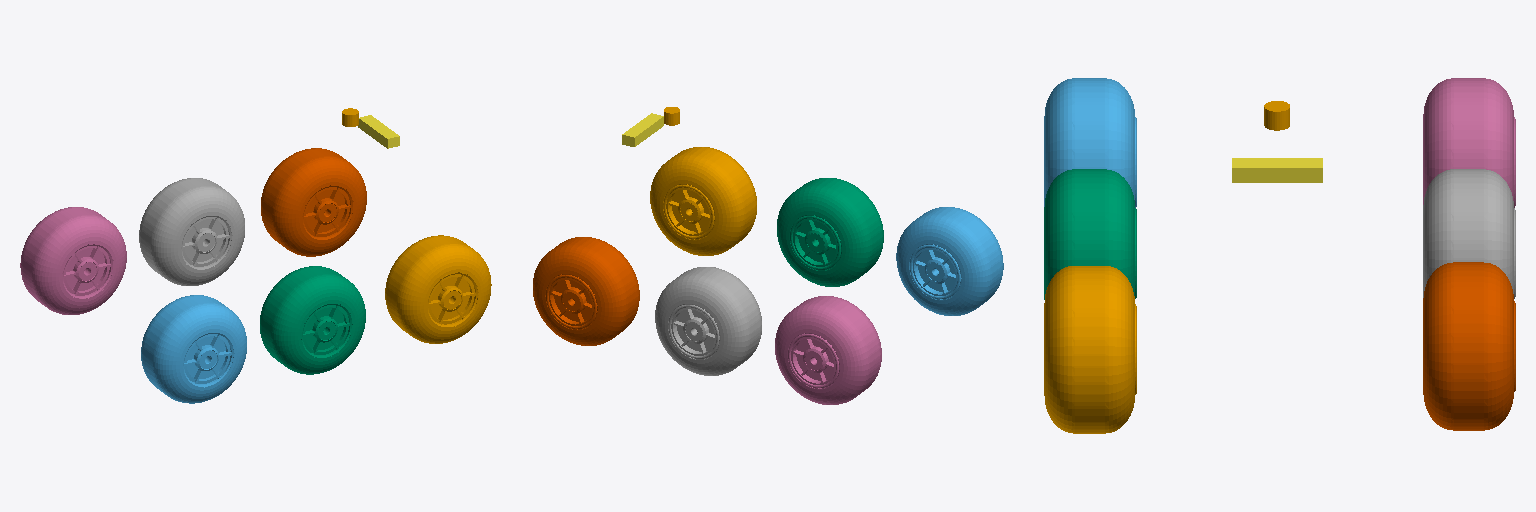
The robot description file, URDF, robot "rover":
<?xml version="1.0" ?>
<!-- =================================================================================== -->
<!-- |    This document was autogenerated by xacro from ilhuicamina.xacro              | -->
<!-- |    EDITING THIS FILE BY HAND IS NOT RECOMMENDED                                 | -->
<!-- =================================================================================== -->
<robot name="rover">
  <!-- Definimos las dimensiones del lidar-->
  <link name="lidar_link">
    <inertial>
      <mass value="0.0"/>
      <origin rpy="0 0 0" xyz="0 0 0"/>
      <inertia ixx="0.0" ixy="0.0" ixz="0.0" iyy="0.0" iyz="0.0" izz="0.0"/>
    </inertial>
    <collision>
      <geometry>
        <cylinder length="0.04" radius="0.025"/>
      </geometry>
      <origin rpy="0 0 0" xyz="0 0 -0.02"/>
    </collision>
    <visual>
      <geometry>
        <cylinder length="0.04" radius="0.025"/>
      </geometry>
      <origin rpy="0 0 0" xyz="0 0 -0.02"/>
    </visual>
  </link>
  <!-- Definimos el joint entre el lidar y la base -->
  <joint name="base_to_lidar" type="fixed">
    <parent link="base_link"/>
    <child link="lidar_link"/>
    <origin rpy="0 0 0" xyz="0.3 0 0.47"/>
  </joint>
  <!-- Dummy link to act as the root link -->
  <link name="dummy_link">
    <!-- No visual, collision, or inertial elements needed -->
  </link>
  <link name="base_link">
    <pose>0 0 0 0 0 0</pose>
    <inertial>
      <mass value="35.689"/>
      <origin rpy="0 0 0" xyz="0 0 0.085"/>
      <inertia ixx="1.5921292357633332" ixy="0" ixz="0" iyy="0.3900320247741667" iyz="0" izz="0.3900320247741667"/>
    </inertial>
    <visual>
      <geometry>
        <mesh filename="package://bring_up/meshes/Chasis.STL" scale="0.001 0.001 .001"/>
      </geometry>
      <origin rpy="1.570796327 0 1.570796327 " xyz="-.365 -.175 0.262"/>
    </visual>
    <collision>
      <geometry>
        <mesh filename="package://bring_up/meshes/Chasis.STL" scale="0.001 0.001 .001"/>
      </geometry>
      <origin rpy="1.570796327 0 1.570796327 " xyz="-.365 -.175 0.262"/>
    </collision>
  </link>
  <!-- Fixed joint connecting dummy_link to base_link -->
  <joint name="fixed_dummy_base" type="fixed">
    <parent link="dummy_link"/>
    <child link="base_link"/>
    <origin rpy="0 0 0" xyz="0 0 0"/>
  </joint>
  <!-- Definimos las dimensiones de la camara-->
  <link name="ZED_link">
    <inertial>
      <mass value="0.0"/>
      <origin rpy="0.0 0.0 0.0" xyz="0.0 0.0 0.0"/>
      <inertia ixx="0.0" ixy="0.0" ixz="0.0" iyy="0.0" iyz="0.0" izz="0.0"/>
    </inertial>
    <collision>
      <geometry>
        <box size="0.0431 0.17525 0.0325"/>
      </geometry>
      <origin rpy="0.0 0.0 0.0" xyz="0.0 0.0 0.0"/>
    </collision>
    <visual>
      <geometry>
        <box size="0.0431 0.17525 0.0325"/>
      </geometry>
      <origin rpy="0.0 0.0 0.0" xyz="0.0 0.0 0.0"/>
    </visual>
  </link>
  <joint name="base_to_ZED" type="fixed">
    <parent link="base_link"/>
    <child link="ZED_link"/>
    <origin rpy="0 0 0" xyz="0.4 0.0 0.38"/>
  </joint>
  <joint name="ZED_depth_joint" type="fixed">
    <origin rpy="-1.570796326795 0 -1.570796326795 " xyz="0 0 0"/>
    <parent link="ZED_link"/>
    <child link="ZED_depth_link"/>
  </joint>
  <link name="ZED_depth_link"/>
  <!--LLANTA IZQUIERDA FRONT-->
  <link name="flwheel_link">
    <inertial>
      <mass value="2.2"/>
      <origin rpy="0 1.570796327 1.570796327" xyz="0 0 0"/>
      <inertia ixx="0.02091375" ixy="0" ixz="0" iyy="0.02091375" iyz="0" izz="0.029947500000000005"/>
    </inertial>
    <visual name="link_flwheel_visual">
      <geometry>
        <mesh filename="package://bring_up/meshes/wheel_left_f.STL"/>
      </geometry>
      <origin rpy="0 0 0" xyz="0.034 -0.013 0"/>
    </visual>
    <collision name="link_flwheel_collision">
      <geometry>
        <mesh filename="package://bring_up/meshes/wheel_left_f.STL"/>
      </geometry>
      <origin rpy="0 0 0" xyz="0.034 -0.013 0"/>
    </collision>
  </link>
  <joint name="base_to_flwheel" type="continuous">
    <parent link="base_link"/>
    <child link="flwheel_link"/>
    <origin rpy="1.570796327 0 0" xyz="0.386 0.375 0"/>
    <axis rpy="0 0 0" xyz="0 0 -1"/>
    <limit effort="10000" velocity="1000"/>
    <joint_properties damping="1.0" friction="100.0"/>
  </joint>
  <!--LLANTA IZQUIERDA BACK-->
  <link name="blwheel_link">
    <inertial>
      <mass value="2.2"/>
      <origin rpy="0  1.570796327 1.570796327" xyz="0 0 0"/>
      <inertia ixx="0.02091375" ixy="0" ixz="0" iyy="0.02091375" iyz="0" izz="0.029947500000000005"/>
    </inertial>
    <visual name="link_blwheel_visual">
      <geometry>
        <mesh filename="package://bring_up/meshes/wheel_left_f.STL"/>
      </geometry>
      <origin rpy="0 0 0" xyz="0.034 -0.013 0"/>
    </visual>
    <collision name="link_blwheel_collision">
      <geometry>
        <mesh filename="package://bring_up/meshes/wheel_left_f.STL"/>
      </geometry>
      <origin rpy="0 0 0" xyz="0.034 -0.013 0"/>
    </collision>
  </link>
  <joint name="base_to_alwheel" type="continuous">
    <parent link="base_link"/>
    <child link="blwheel_link"/>
    <origin rpy="1.570796327 0 0" xyz="-0.45 0.375 0"/>
    <axis rpy="0 0 0" xyz="0 0 -1"/>
    <limit effort="10000" velocity="1000"/>
    <joint_properties damping="1.0" friction="100.0"/>
  </joint>
  <!--LLANTA IZQUIERDA ENMEDIO-->
  <link name="middle_wheel">
    <inertial>
      <mass value="2.2"/>
      <origin rpy="0 1.570796327 1.570796327" xyz="0 0 0"/>
      <inertia ixx="0.02091375" ixy="0" ixz="0" iyy="0.02091375" iyz="0" izz="0.029947500000000005"/>
    </inertial>
    <visual name="link_wheel">
      <geometry>
        <mesh filename="package://bring_up/meshes/wheel_left_f.STL"/>
      </geometry>
      <origin rpy="0 0 0" xyz="0.034 -0.013 0"/>
    </visual>
    <collision name="link_wheel_collision">
      <geometry>
        <mesh filename="package://bring_up/meshes/wheel_left_f.STL"/>
      </geometry>
      <origin rpy="0 0 0" xyz="0.034 -0.013 0"/>
    </collision>
  </link>
  <joint name="base_to_middle_wheel" type="continuous">
    <parent link="base_link"/>
    <child link="middle_wheel"/>
    <origin rpy="1.570796327 0 0" xyz="-0.037 0.375 0"/>
    <axis rpy="0 0 0" xyz="0 0 -1"/>
    <limit effort="10000" velocity="1000"/>
    <joint_properties damping="1.0" friction="100.0"/>
  </joint>
  <!-- LLANTA DERECHA FRONT-->
  <link name="frwheel_link">
    <inertial>
      <mass value="2.2"/>
      <origin rpy="0 1.570796327 1.570796327" xyz="0 0 0"/>
      <inertia ixx="0.02091375" ixy="0" ixz="0" iyy="0.02091375" iyz="0" izz="0.029947500000000005"/>
    </inertial>
    <visual name="link_frwheel_visual">
      <geometry>
        <mesh filename="package://bring_up/meshes/wheel_left_f.STL"/>
      </geometry>
      <origin rpy="0 0 0" xyz="0.034 -0.013 0"/>
    </visual>
    <collision name="link_frwheel_collision">
      <geometry>
        <mesh filename="package://bring_up/meshes/wheel_left_f.STL"/>
      </geometry>
      <origin rpy="0 0 0" xyz="0.034 -0.013 0"/>
    </collision>
  </link>
  <joint name="base_to_frwheel" type="continuous">
    <parent link="base_link"/>
    <child link="frwheel_link"/>
    <origin rpy="1.570796327 0 0" xyz="0.40 -0.352 0"/>
    <axis rpy="0 0 0" xyz="0 0 -1"/>
    <limit effort="10000" velocity="1000"/>
    <joint_properties damping="1.0" friction="100.0"/>
  </joint>
  <!--LLANTA DERECHA ATRAS-->
  <link name="brwheel_link">
    <inertial>
      <mass value="2.2"/>
      <origin rpy="0 1.570796327 1.570796327" xyz="0 0 0"/>
      <inertia ixx="0.02091375" ixy="0" ixz="0" iyy="0.02091375" iyz="0" izz="0.029947500000000005"/>
    </inertial>
    <visual name="link_brwheel_visual">
      <geometry>
        <mesh filename="package://bring_up/meshes/wheel_left_f.STL"/>
      </geometry>
      <origin rpy="0 0 0" xyz="0.034 -0.013 0"/>
    </visual>
    <collision name="link_brwheel_collision">
      <geometry>
        <mesh filename="package://bring_up/meshes/wheel_left_f.STL"/>
      </geometry>
      <origin rpy="0 0 0" xyz="0.034 -0.013 0"/>
    </collision>
  </link>
  <joint name="base_to_arwheel" type="continuous">
    <parent link="base_link"/>
    <child link="brwheel_link"/>
    <origin rpy="1.570796327 0 0" xyz="-0.45 -0.352 0"/>
    <axis rpy="0 0 0" xyz="0 0 -1"/>
    <limit effort="10000" velocity="1000"/>
    <joint_properties damping="1.0" friction="100.0"/>
  </joint>
  <!--LLANTA DERECHA ENMEDIO-->
  <link name="middle_wheel_2">
    <inertial>
      <mass value="2.2"/>
      <origin rpy="0 1.570796327 1.570796327" xyz="0 0 0"/>
      <inertia ixx="0.02091375" ixy="0" ixz="0" iyy="0.02091375" iyz="0" izz="0.029947500000000005"/>
    </inertial>
    <visual name="link_wheel_2">
      <geometry>
        <mesh filename="package://bring_up/meshes/wheel_left_f.STL"/>
      </geometry>
      <origin rpy="0 0 0" xyz="0.034 -0.013 0"/>
    </visual>
    <collision name="link_wheel_collision_2">
      <geometry>
        <mesh filename="package://bring_up/meshes/wheel_left_f.STL"/>
      </geometry>
      <origin rpy="0 0 0" xyz="0.034 -0.013 0"/>
    </collision>
  </link>
  <joint name="base_to_middle_wheel_2" type="continuous">
    <parent link="base_link"/>
    <child link="middle_wheel_2"/>
    <origin rpy="1.570796327 0 0" xyz="-0.037 -0.352 0"/>
    <axis rpy="0 0 0" xyz="0 0 -1"/>
    <limit effort="10000" velocity="1000"/>
    <joint_properties damping="1.0" friction="100.0"/>
  </joint>
</robot>

--- Render facts (derived) ---
The picture shows the robot from 3 angles, left to right: view 1: azimuth 30°, elevation 25°; view 2: azimuth 150°, elevation 25°; view 3: azimuth 270°, elevation 25°; orthographic projection.
Robot: rover — 11 links, 10 joints (6 continuous, 4 fixed); root link dummy_link; default pose: all joints at 0.
Visible links, largest first — view 1: brwheel_link, flwheel_link, middle_wheel_2, blwheel_link, middle_wheel, frwheel_link, ZED_link; view 2: middle_wheel_2, blwheel_link, frwheel_link, middle_wheel, brwheel_link, flwheel_link, ZED_link; view 3: flwheel_link, frwheel_link, middle_wheel_2, middle_wheel, brwheel_link, blwheel_link, ZED_link, lidar_link.
Link boxes in pixels (x1,y1,x2,y2): brwheel_link: [141, 295, 246, 403]; flwheel_link: [261, 148, 366, 256]; middle_wheel_2: [260, 266, 365, 374]; blwheel_link: [20, 207, 126, 314]; middle_wheel: [139, 178, 244, 285]; frwheel_link: [385, 235, 491, 343]; ZED_link: [358, 115, 399, 148]; middle_wheel_2: [777, 178, 883, 286]; blwheel_link: [775, 296, 881, 404]; frwheel_link: [650, 147, 756, 255]; middle_wheel: [655, 267, 761, 375]; brwheel_link: [896, 207, 1003, 315]; flwheel_link: [533, 237, 639, 345]; ZED_link: [622, 113, 663, 146]; flwheel_link: [1423, 262, 1515, 430]; frwheel_link: [1044, 266, 1136, 433]; middle_wheel_2: [1044, 169, 1136, 299]; middle_wheel: [1423, 169, 1515, 298]; brwheel_link: [1044, 78, 1136, 207]; blwheel_link: [1423, 78, 1515, 207]; ZED_link: [1232, 158, 1322, 182]; lidar_link: [1264, 101, 1289, 130].
Size in the robot's own frame: 1.17 by 0.9039 by 0.6307 metres.
Meshes: 2 distinct files referenced, 6 mesh visuals loaded (1 binary STL); not drawn: 1 (reference not matched to a file when rendering).